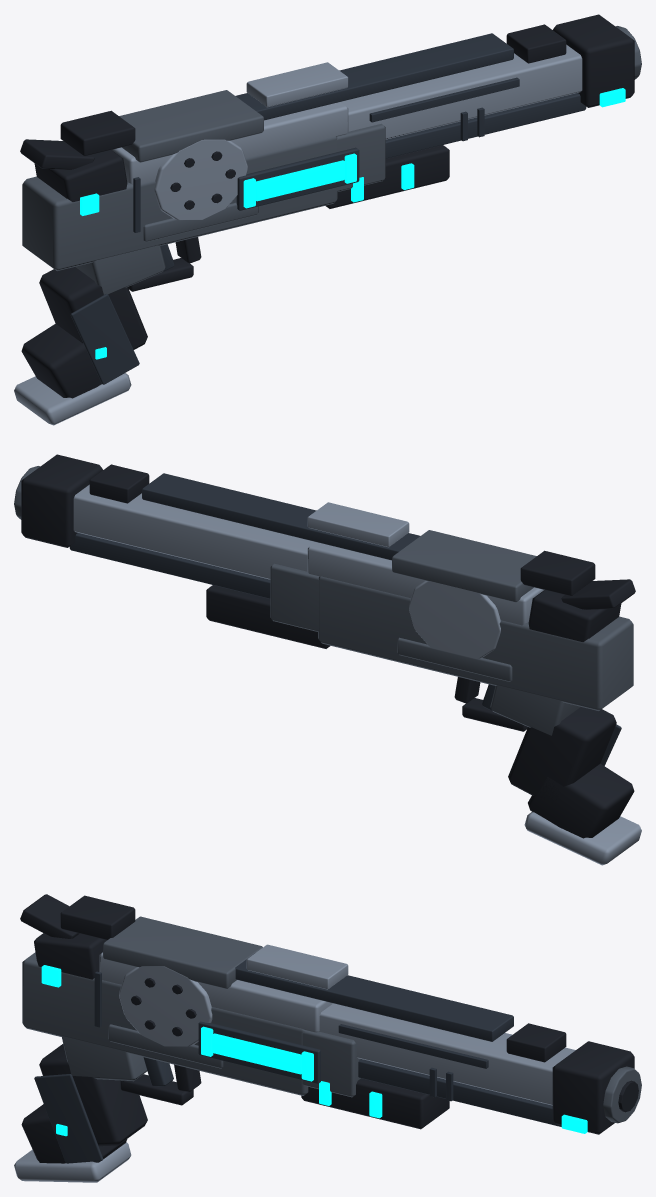
File: scifi_revolver_cohesive.glb
3 renders of one model, top to bottom at view 1: azimuth 30°, elevation 25°; view 2: azimuth 150°, elevation 25°; view 3: azimuth 330°, elevation 25°, orthographic.
Visible parts, largest first — view 1: Receiver_Core_Block, Long_Barrel_Housing, Top_Rail_Long_Flush, Cylinder_Frame_Upper_Bridge, Embedded_Revolver_Cylinder, Front_Muzzle_Block, Receiver_Upper_Step, Grip_Main_Angled, Lower_Barrel_Rail, Grip_Lower_Angled, Grip_Left_Flush_Panel, Grip_Butt_Cap (+13 smaller); view 2: Receiver_Core_Block, Long_Barrel_Housing, Top_Rail_Long_Flush, Cylinder_Frame_Upper_Bridge, Grip_Main_Angled, Embedded_Revolver_Cylinder, Front_Muzzle_Block, Grip_Lower_Angled, Receiver_Upper_Step, Lower_Barrel_Rail, Underbarrel_Module, Receiver_Front_Neck (+9 smaller); view 3: Receiver_Core_Block, Long_Barrel_Housing, Top_Rail_Long_Flush, Cylinder_Frame_Upper_Bridge, Embedded_Revolver_Cylinder, Front_Muzzle_Block, Receiver_Upper_Step, Grip_Main_Angled, Lower_Barrel_Rail, Underbarrel_Module, Grip_Left_Flush_Panel, Top_Raised_Panel (+18 smaller).
Part boxes in pixels (box(x1,y1,x2,y2)): Receiver_Core_Block: box(22, 136, 337, 270); Long_Barrel_Housing: box(340, 44, 582, 139); Top_Rail_Long_Flush: box(236, 33, 513, 120); Cylinder_Frame_Upper_Bridge: box(119, 90, 263, 162); Embedded_Revolver_Cylinder: box(154, 139, 247, 220); Front_Muzzle_Block: box(553, 14, 634, 107); Receiver_Upper_Step: box(111, 102, 348, 184); Grip_Main_Angled: box(39, 267, 147, 349); Lower_Barrel_Rail: box(385, 93, 586, 158); Grip_Lower_Angled: box(21, 323, 101, 398); Grip_Left_Flush_Panel: box(70, 294, 139, 384); Grip_Butt_Cap: box(14, 373, 131, 425); Receiver_Core_Block: box(318, 576, 633, 710); Long_Barrel_Housing: box(73, 484, 315, 579); Top_Rail_Long_Flush: box(142, 473, 419, 560); Cylinder_Frame_Upper_Bridge: box(392, 530, 536, 602); Grip_Main_Angled: box(508, 707, 616, 805); Embedded_Revolver_Cylinder: box(409, 580, 500, 658); Front_Muzzle_Block: box(21, 454, 102, 547); Grip_Lower_Angled: box(528, 763, 634, 838); Receiver_Upper_Step: box(307, 542, 544, 625); Lower_Barrel_Rail: box(69, 533, 270, 598); Underbarrel_Module: box(206, 585, 330, 648); Receiver_Front_Neck: box(270, 563, 319, 631); Receiver_Core_Block: box(22, 952, 308, 1095); Long_Barrel_Housing: box(319, 1003, 575, 1105); Top_Rail_Long_Flush: box(235, 953, 513, 1041); Cylinder_Frame_Upper_Bridge: box(103, 916, 262, 989); Embedded_Revolver_Cylinder: box(119, 966, 212, 1046); Front_Muzzle_Block: box(552, 1041, 634, 1134); Receiver_Upper_Step: box(99, 952, 332, 1032); Grip_Main_Angled: box(39, 1044, 147, 1146); Lower_Barrel_Rail: box(358, 1059, 561, 1126); Underbarrel_Module: box(301, 1078, 449, 1129); Grip_Left_Flush_Panel: box(34, 1074, 103, 1163); Top_Raised_Panel: box(246, 944, 348, 989).
Bounding box in the file's own units: 5.04 × 2.2 × 0.6024.
